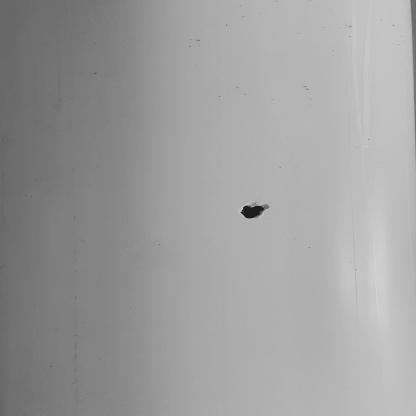kongdong: (229, 192, 300, 237)
